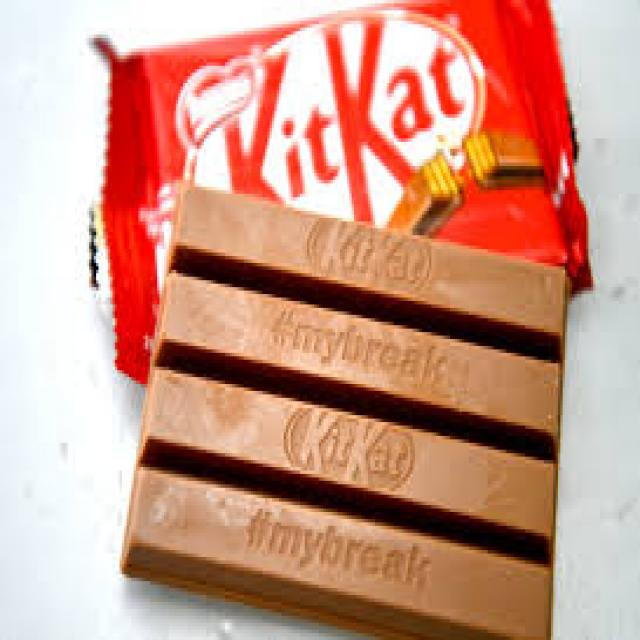kitkat: (92, 0, 595, 390)
